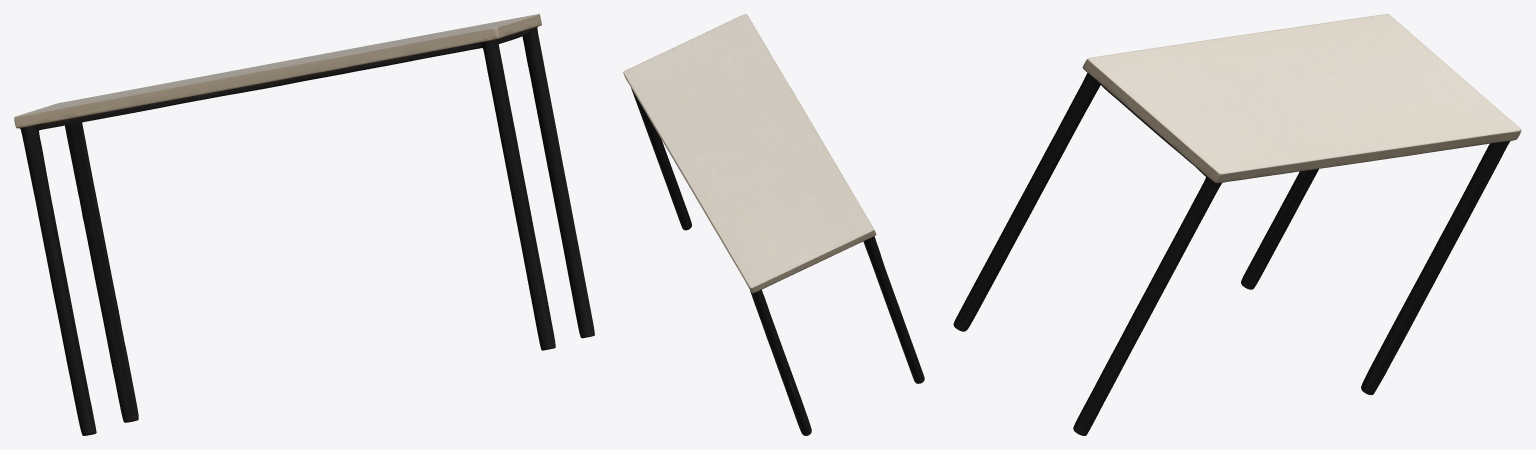
The model's file is light-colored_wooden_table_in_middle_row_(left)_000.glb.
3 views of the same model, side by side, from view 1: azimuth 30°, elevation 25°; view 2: azimuth 150°, elevation 25°; view 3: azimuth 270°, elevation 25° (orthographic). The views are drawn at different scales.
Parts seen in each view (by area): view 1: light-colored_wooden_table_in_middle_row_(left)_000.obj; view 2: light-colored_wooden_table_in_middle_row_(left)_000.obj; view 3: light-colored_wooden_table_in_middle_row_(left)_000.obj.
Boxes of the visible parts, x1,y1,x2,y2 form: light-colored_wooden_table_in_middle_row_(left)_000.obj: (14,14,594,435); light-colored_wooden_table_in_middle_row_(left)_000.obj: (623,14,924,435); light-colored_wooden_table_in_middle_row_(left)_000.obj: (953,14,1521,435).
Size of the model in its own units: 0.6754 by 0.6449 by 0.7449.
1 material, 1 textured.
